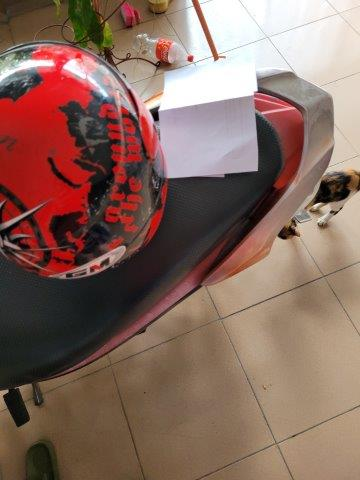botolplastik: (133, 32, 193, 65)
kertas: (165, 60, 260, 176)
